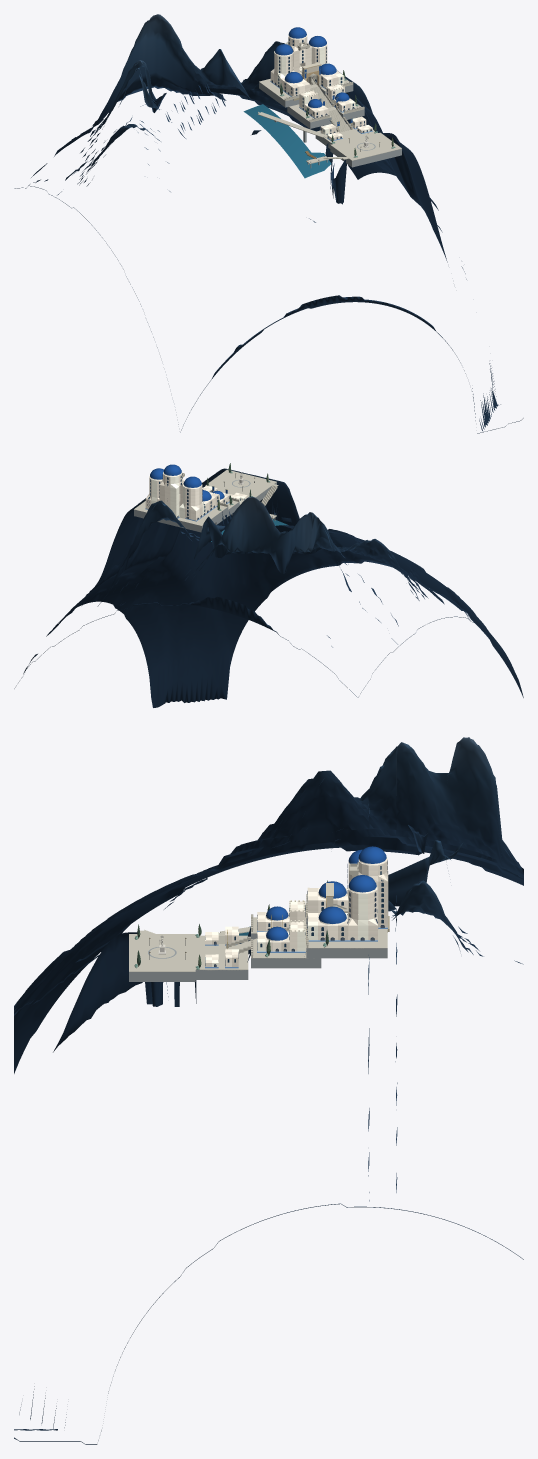
Rendered from citadel-cliff-input-v2.glb.
3 renders of one model, top to bottom at view 1: azimuth 30°, elevation 25°; view 2: azimuth 150°, elevation 25°; view 3: azimuth 270°, elevation 25°, orthographic. The views are drawn at different scales.
Visible parts, largest first — view 1: citadel-oskar-grid-mountain-surface, west-city-crown, west-city-water-channel, west-city-middle, west-city-plaza-deck, west-city-harbor, west-city-plaza-foundation; view 2: citadel-oskar-grid-mountain-surface, west-city-crown, west-city-plaza-deck; view 3: citadel-oskar-grid-mountain-surface, west-city-crown, west-city-plaza-deck, west-city-middle, west-city-harbor-promenade-0, west-city-harbor, west-city-crown-retaining-wall-1.
Boxes of the visible parts, x1,y1,x2,y2 form: citadel-oskar-grid-mountain-surface: (14,14,523,433); west-city-crown: (270,27,344,100); west-city-water-channel: (243,104,331,178); west-city-middle: (299,83,355,118); west-city-plaza-deck: (330,132,401,160); west-city-harbor: (320,116,372,141); west-city-plaza-foundation: (330,145,401,167); citadel-oskar-grid-mountain-surface: (14,468,523,707); west-city-crown: (145,464,219,521); west-city-plaza-deck: (205,469,276,497); citadel-oskar-grid-mountain-surface: (14,737,523,1444); west-city-crown: (306,846,389,944); west-city-plaza-deck: (129,934,195,971); west-city-middle: (257,900,305,952); west-city-harbor-promenade-0: (195,935,248,970); west-city-harbor: (205,926,238,968); west-city-crown-retaining-wall-1: (306,948,387,958).
Bounding box in the file's own units: 220 × 216 × 184.
